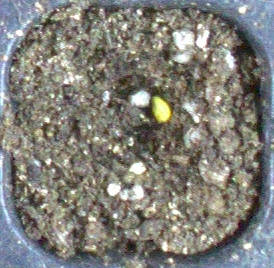pepper seed: (63, 33, 235, 158)
